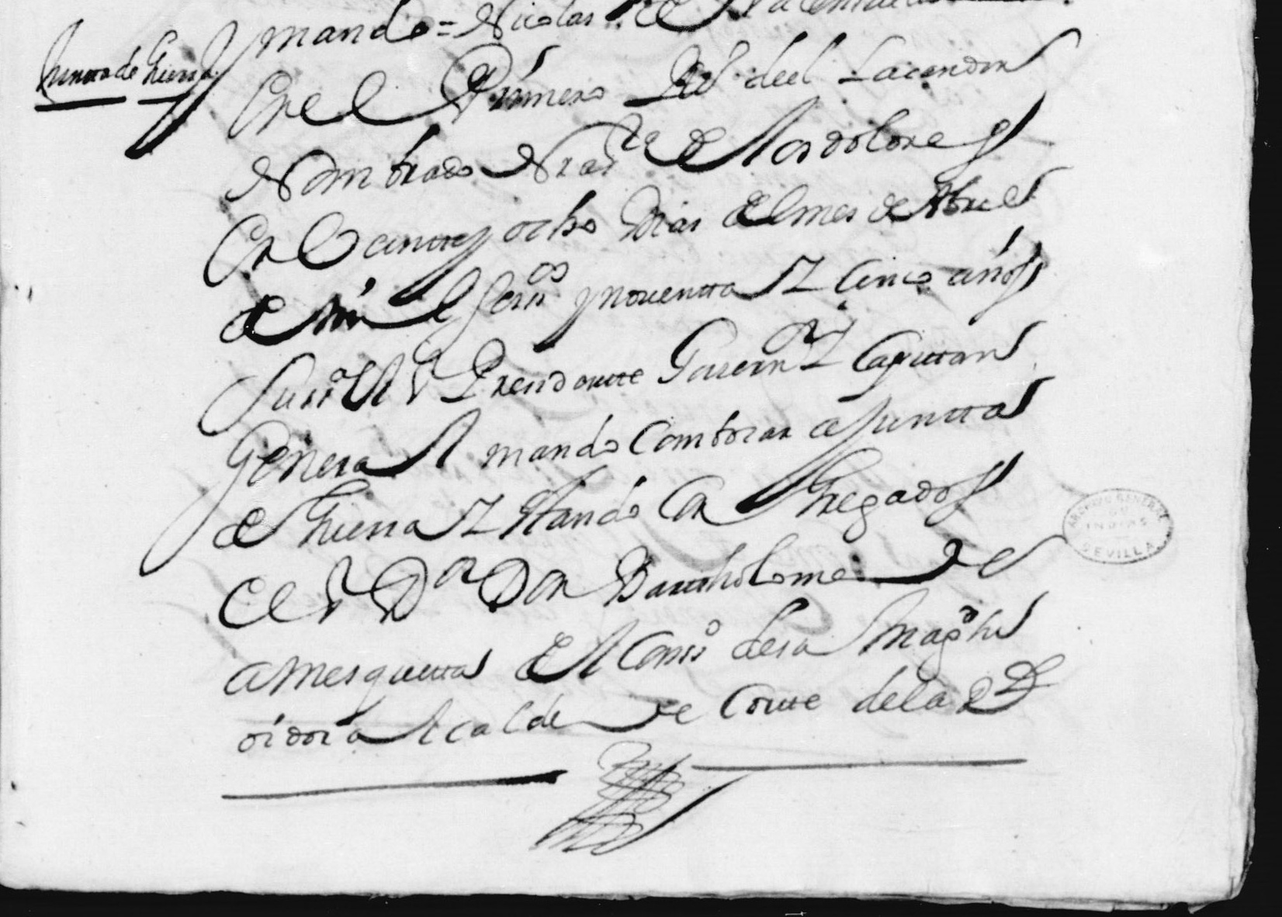lacandon: (838, 27, 1081, 84)
